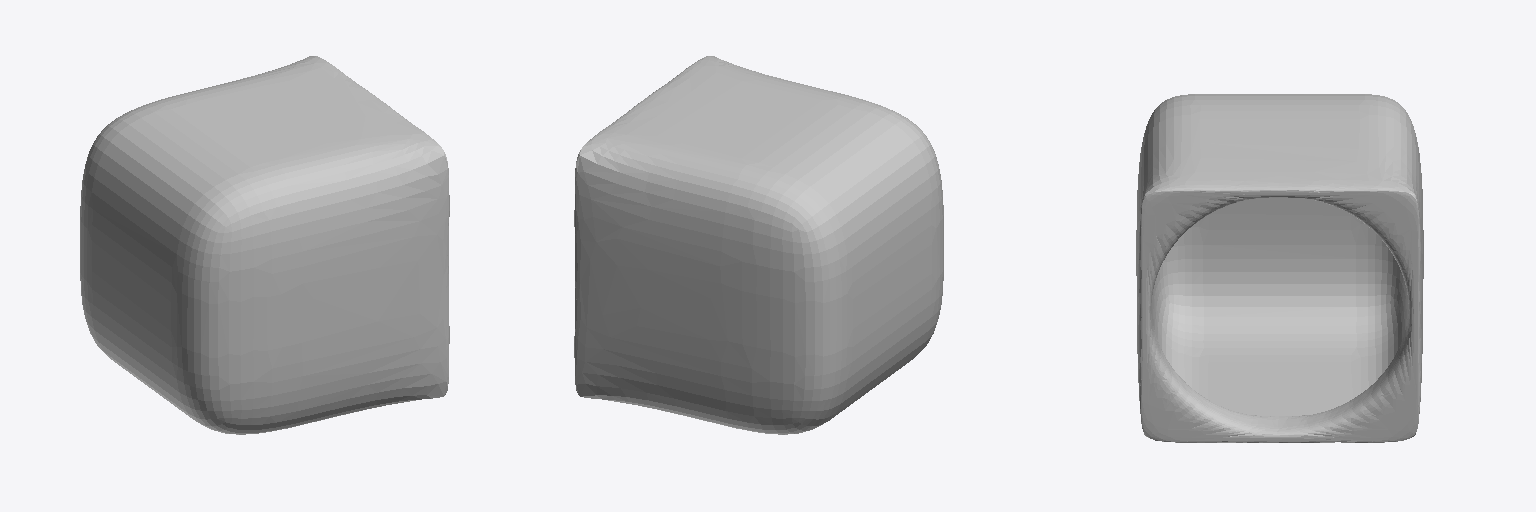
The model's file is tubend.obj.
3 views of the same model, side by side, from view 1: azimuth 30°, elevation 25°; view 2: azimuth 150°, elevation 25°; view 3: azimuth 270°, elevation 25° (orthographic).
Parts seen in each view (by area): view 1: Panic_Room_Cube; view 2: Panic_Room_Cube; view 3: Panic_Room_Cube.
Part boxes in pixels (bbox=[...]): Panic_Room_Cube: bbox=[80, 56, 449, 434]; Panic_Room_Cube: bbox=[574, 56, 943, 434]; Panic_Room_Cube: bbox=[1136, 94, 1423, 442].
Bounding box in the file's own units: 2 × 2 × 2.